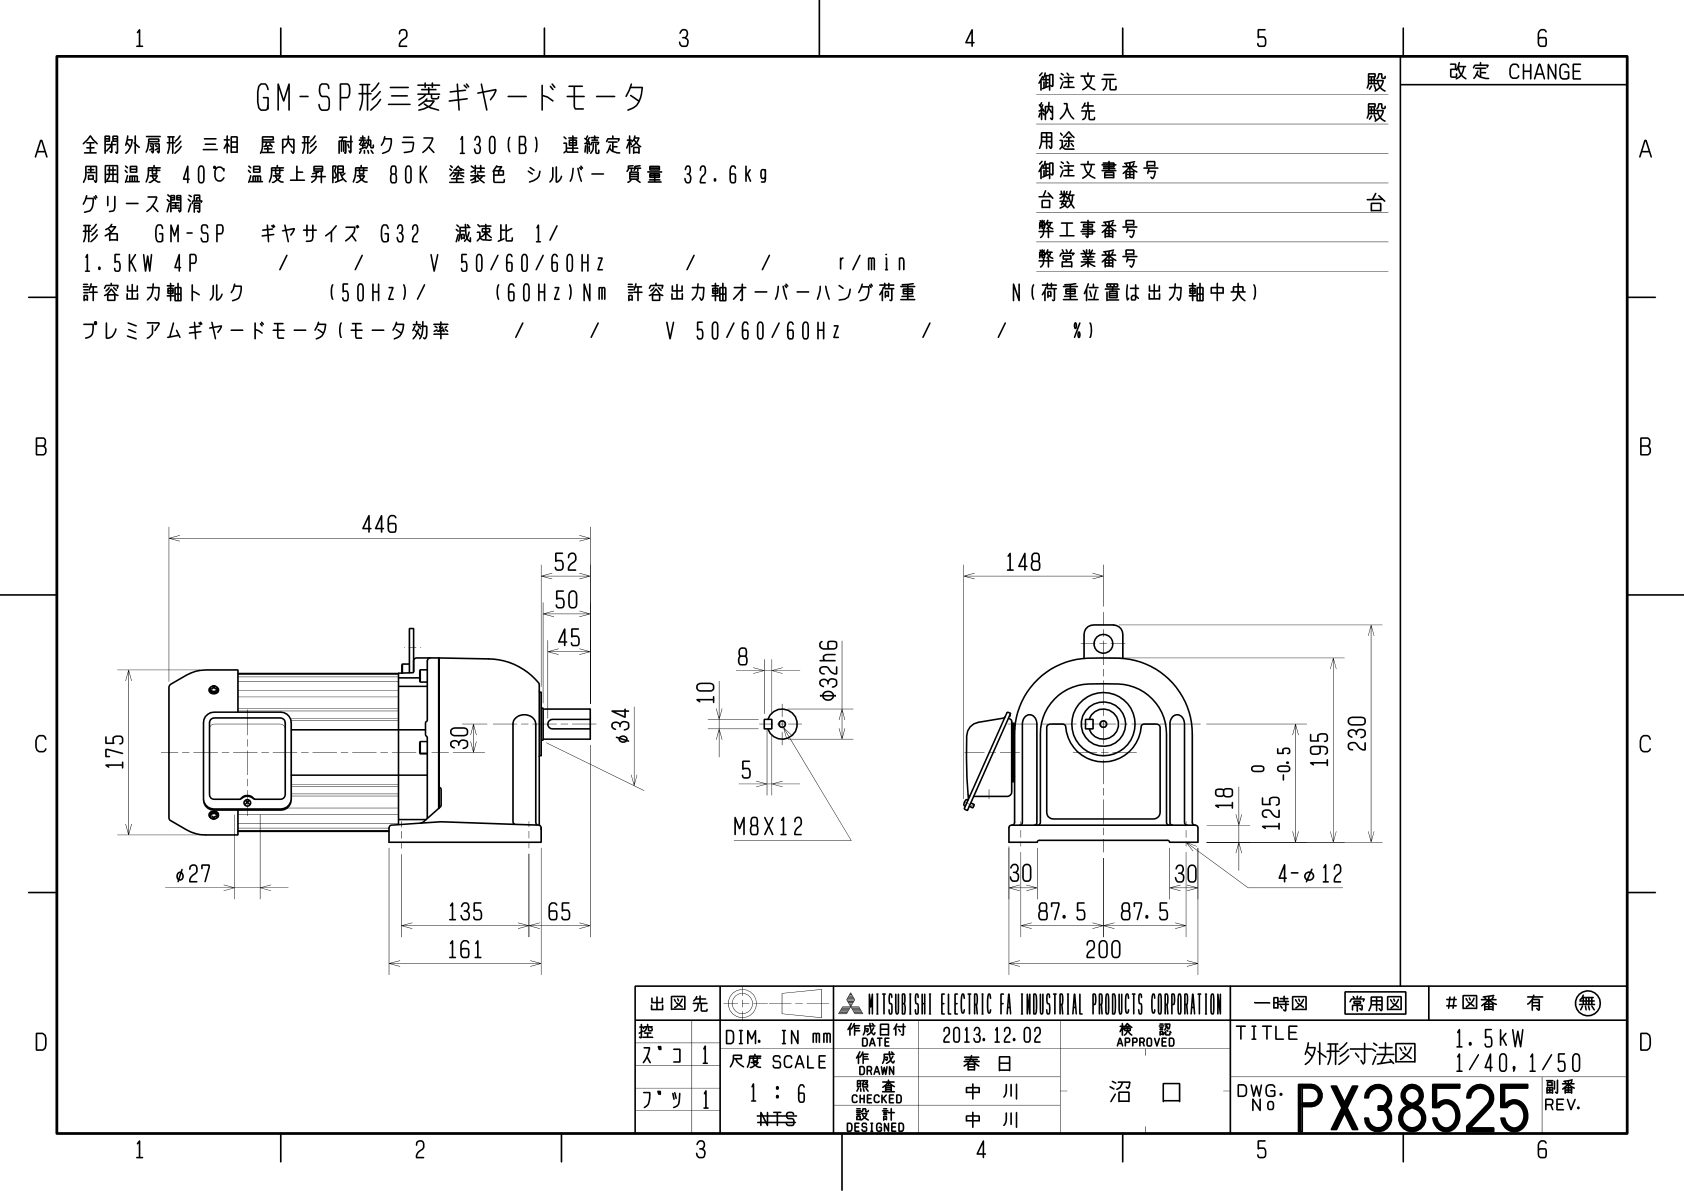GM_SP_屋内_三相_脚: (15, 10, 1666, 1191)
